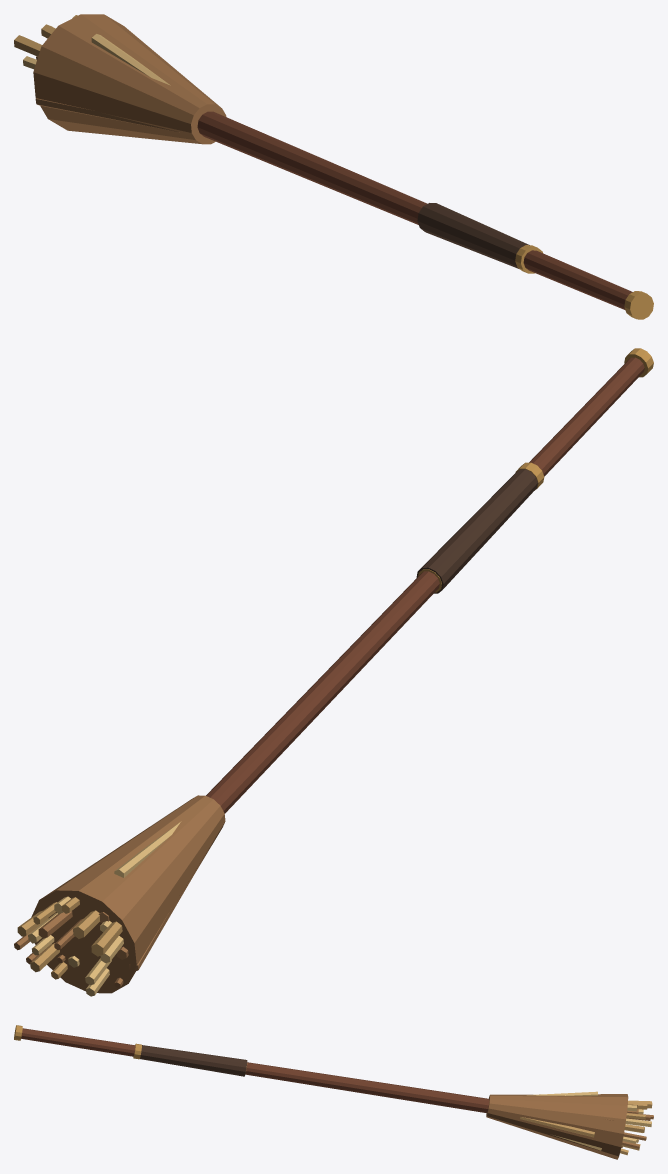
Rendered from broom.glb.
3 views of the same model, one above another, from view 1: azimuth 30°, elevation 25°; view 2: azimuth 150°, elevation 25°; view 3: azimuth 270°, elevation 25° (orthographic). The views are drawn at different scales.
Parts seen in each view (by area): view 1: Bound bristle bundle flight, Broom shaft flight, Gripping band flight, Individual reed.008 flight, Metal collar.002 flight, Individual reed.036 flight; view 2: Bound bristle bundle flight, Broom shaft flight, Gripping band flight; view 3: Bound bristle bundle flight, Broom shaft flight, Gripping band flight, Individual reed.019 flight.
Part boxes in pixels (x1,y1,x2,y2): Bound bristle bundle flight: (33, 14, 226, 144); Broom shaft flight: (197, 111, 632, 309); Gripping band flight: (417, 203, 529, 268); Individual reed.008 flight: (91, 34, 170, 85); Metal collar.002 flight: (624, 291, 653, 319); Individual reed.036 flight: (35, 98, 179, 132); Bound bristle bundle flight: (31, 795, 225, 993); Broom shaft flight: (206, 357, 644, 813); Gripping band flight: (416, 469, 537, 593); Bound bristle bundle flight: (486, 1094, 628, 1159); Broom shaft flight: (21, 1028, 489, 1113); Gripping band flight: (140, 1045, 247, 1076); Individual reed.019 flight: (520, 1117, 594, 1137).
Size of the model in its own units: 0.2688 by 0.5938 by 2.63.
